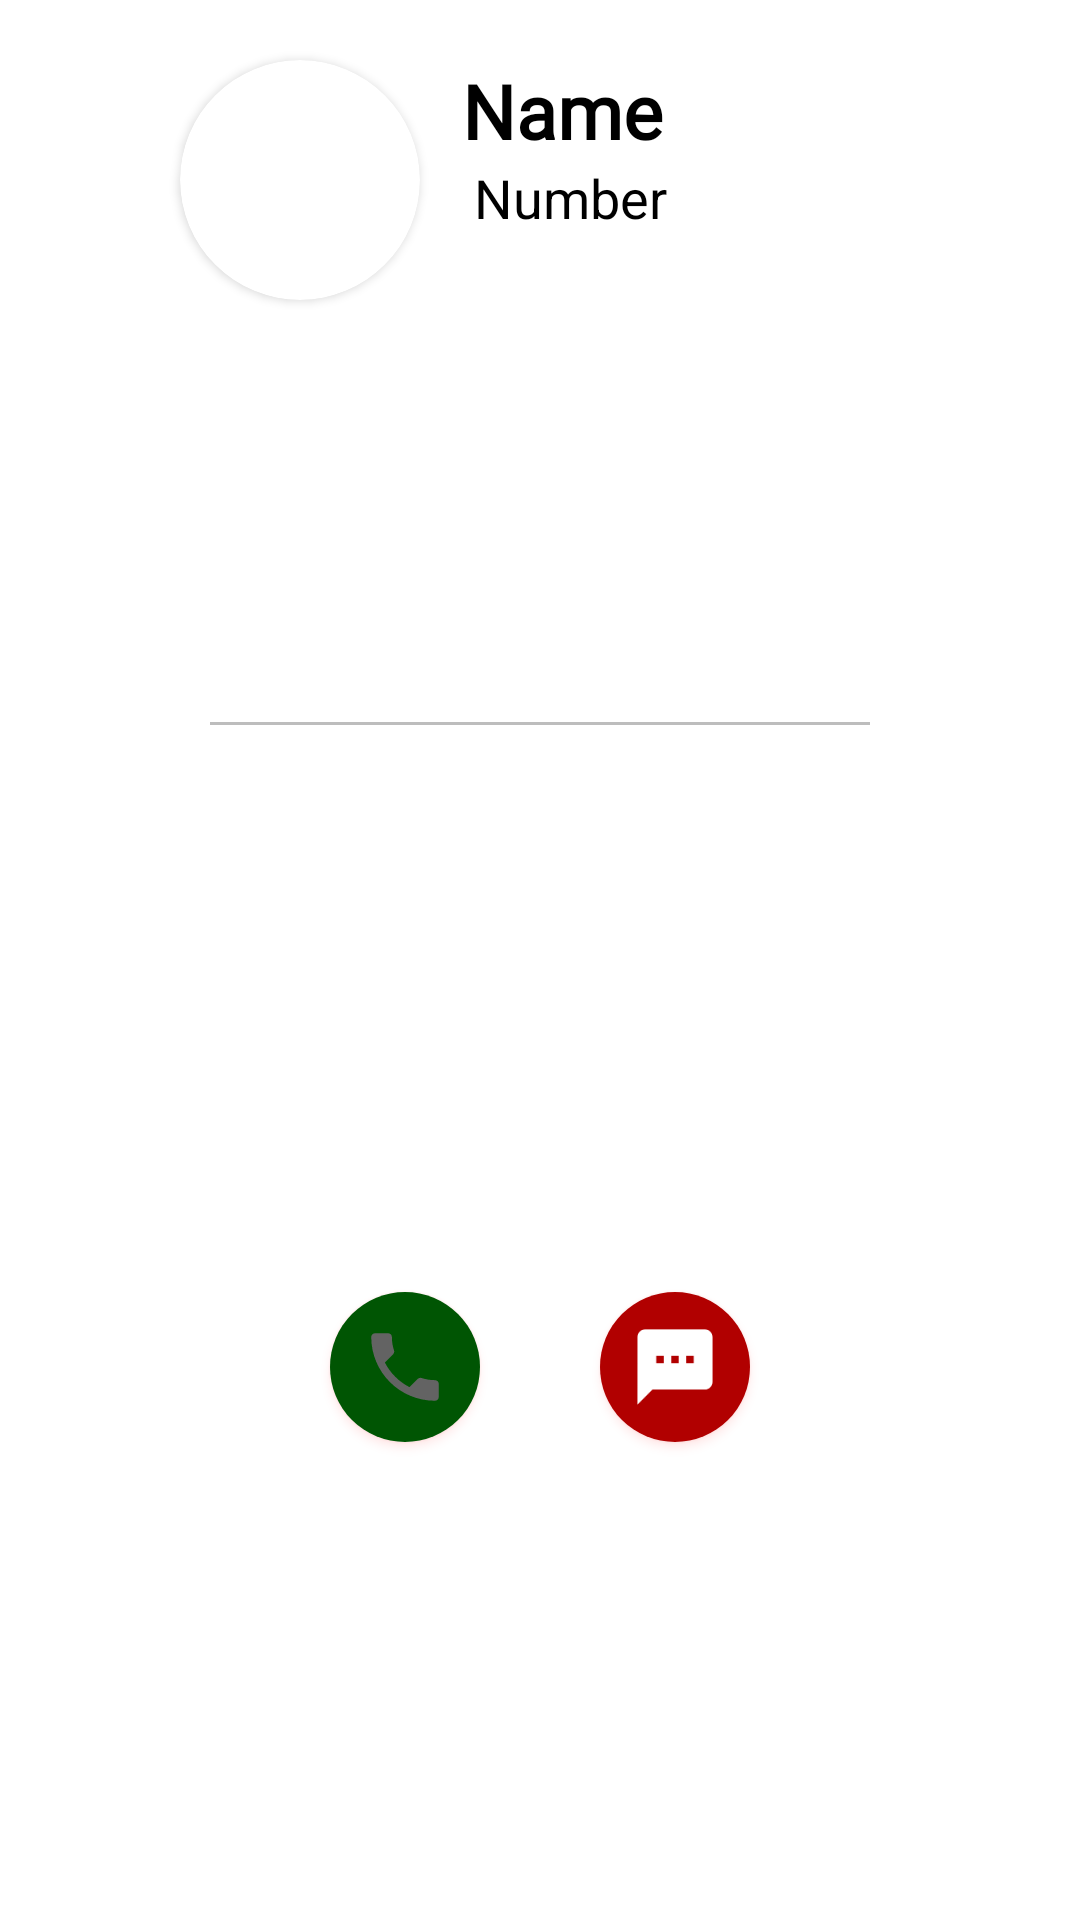

Icons on this 1080px x 1920px Android screen, each with its box as (left=x1, top=y1, right=x2, bottom=y2):
calling: (left=330, top=1292, right=480, bottom=1442)
